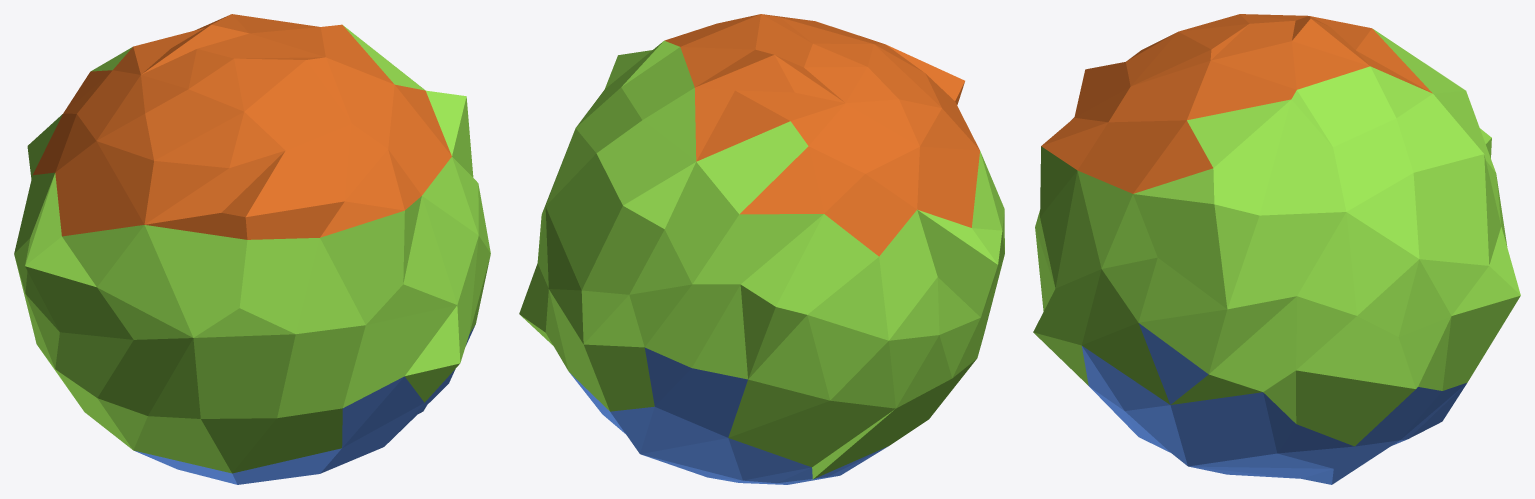
File: Planet6.fbx
3 views of the same model, side by side, from view 1: azimuth 30°, elevation 25°; view 2: azimuth 150°, elevation 25°; view 3: azimuth 270°, elevation 25° (orthographic).
Visible parts, largest first — view 1: Planet6; view 2: Planet6; view 3: Planet6.
Boxes of the visible parts, x1,y1,x2,y2 form: Planet6: [14, 14, 490, 484]; Planet6: [519, 14, 1004, 484]; Planet6: [1033, 14, 1520, 484].
Size of the model in its own units: 11.6 by 10.84 by 11.24.
